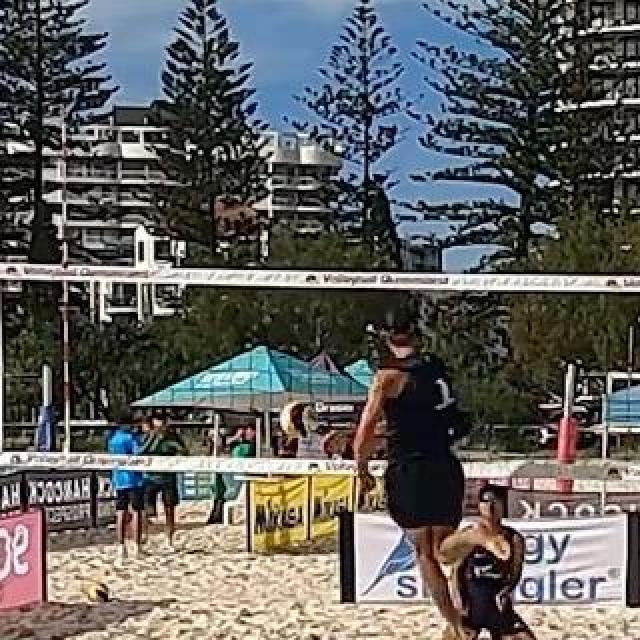volleyball: (279, 400, 317, 438), (89, 584, 111, 604)
